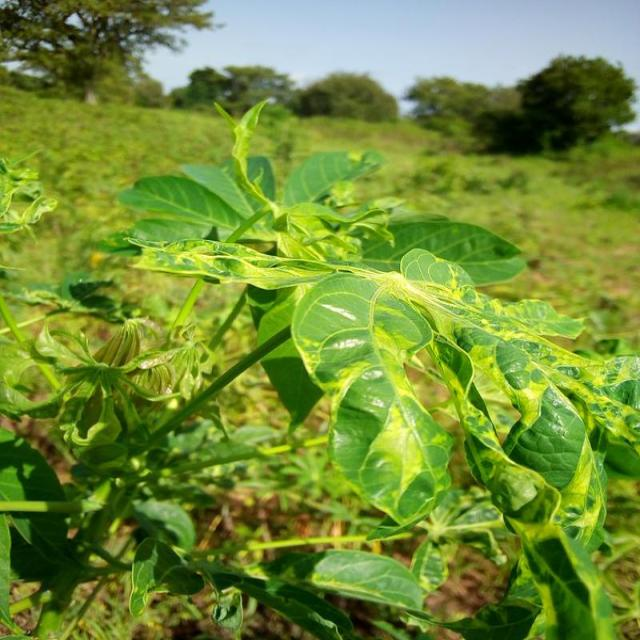cassava leaf: (112, 97, 638, 637)
